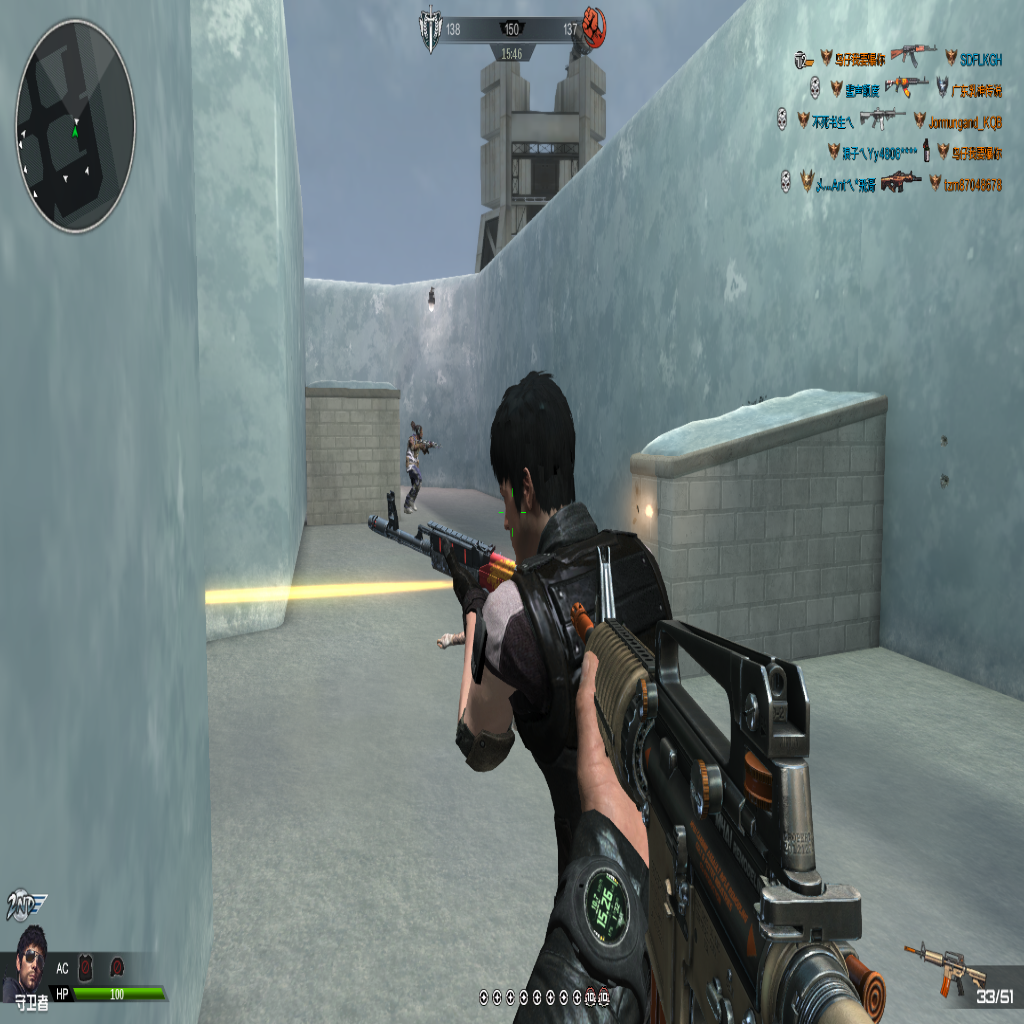tt: (404, 424, 438, 517)
